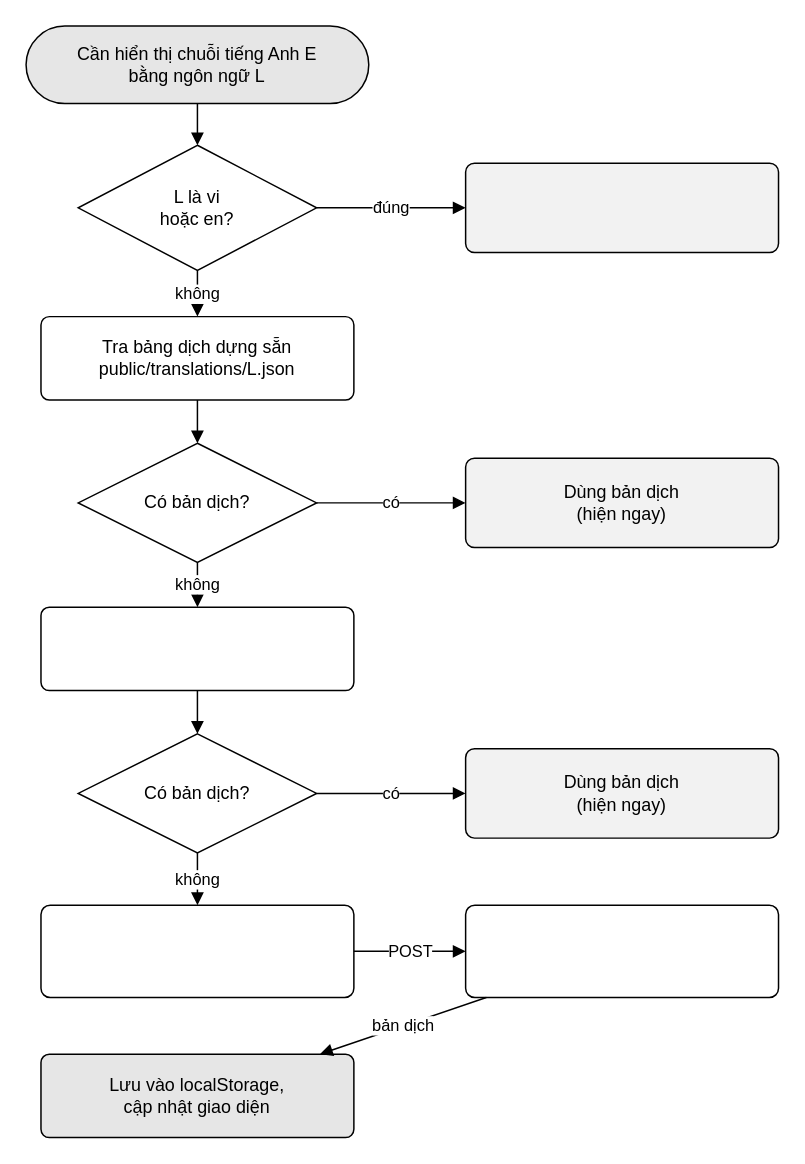
The diagram is 805 pixels wide and 1164 high, and some of its shapes have lost their labels. Here are the shapes that lost their labels. From the top down, the box of each, then its label:
(464, 162, 779, 253): Dùng bản viết tay (lib/i18n.ts, lib/dishes.ts)
(39, 606, 354, 691): Tra localStorage foodlingo:tr:v1:L
(39, 904, 354, 998): Hiện tiếng Anh tạm thời, gọi POST /api/translate
(464, 904, 779, 998): Google Translate (gtx) cache bộ nhớ ở server
